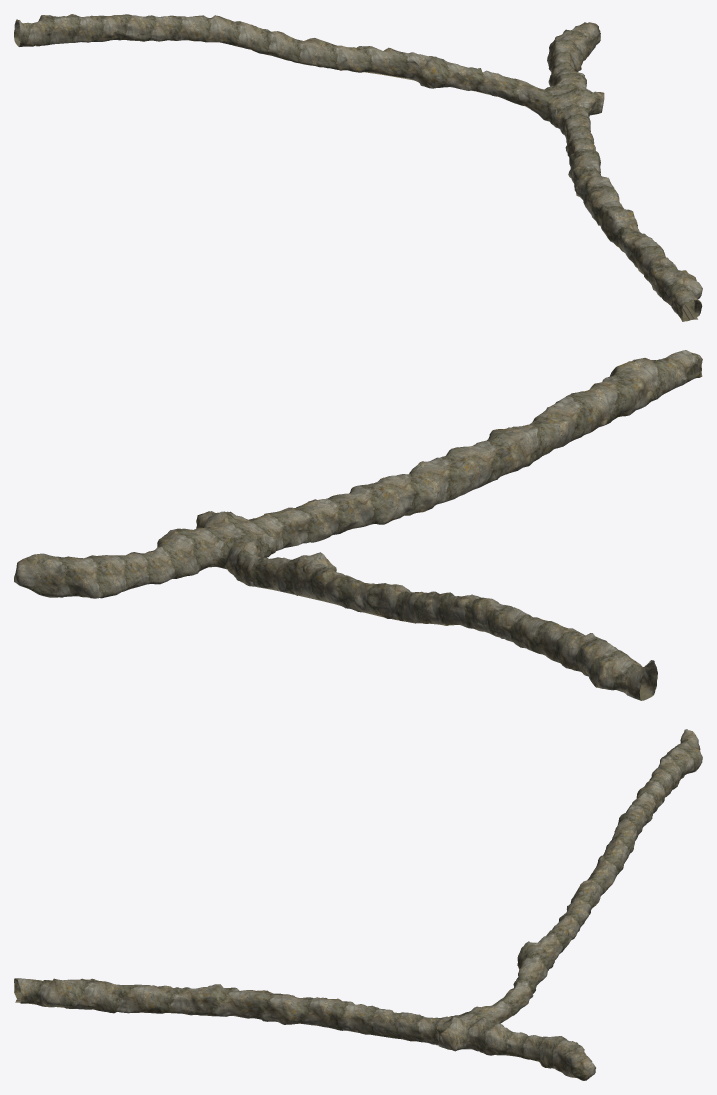
Rendered from Edgar_Section_08.dae.
3 renders of one model, top to bottom at view 1: azimuth 30°, elevation 25°; view 2: azimuth 150°, elevation 25°; view 3: azimuth 270°, elevation 25°, orthographic. The views are drawn at different scales.
Visible parts, largest first — view 1: Section_08_Walls; view 2: Section_08_Walls; view 3: Section_08_Walls.
Part boxes in pixels (bbox=[...]): Section_08_Walls: bbox=[14, 14, 702, 321]; Section_08_Walls: bbox=[14, 350, 702, 700]; Section_08_Walls: bbox=[14, 729, 702, 1080].
Bounding box in the file's own units: 6204 × 1397 × 7290.
Materials: 3 (3 with a texture image).
